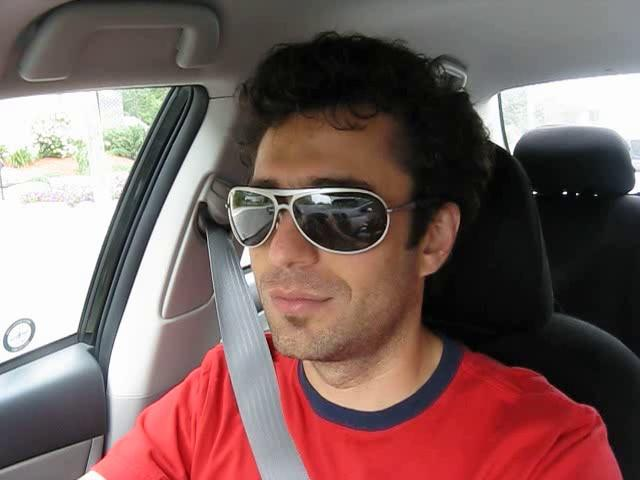no_yawn: (252, 281, 347, 324)
